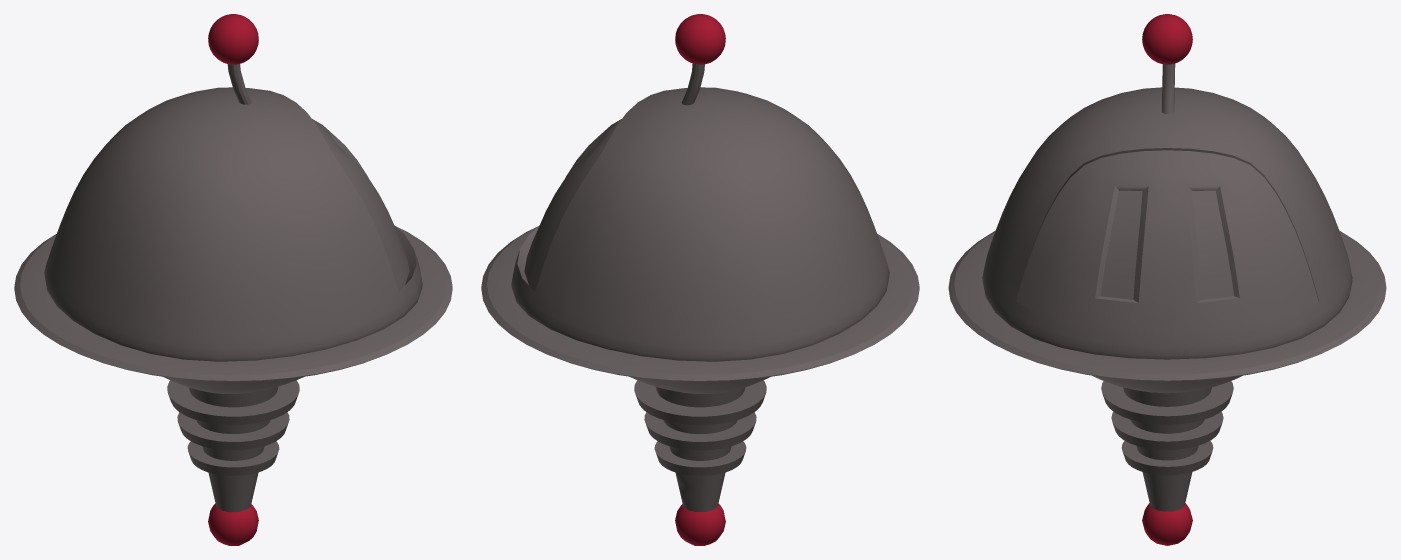
Rendered from SmallBot_Placeholder.fbx.
The picture shows the model from 3 angles, left to right: view 1: azimuth 30°, elevation 25°; view 2: azimuth 150°, elevation 25°; view 3: azimuth 270°, elevation 25°; orthographic projection.
Parts seen in each view (by area): view 1: SmallBot; view 2: SmallBot; view 3: SmallBot.
Part boxes in pixels (bbox=[...]): SmallBot: bbox=[14, 14, 452, 545]; SmallBot: bbox=[481, 14, 919, 545]; SmallBot: bbox=[948, 14, 1386, 545].
Size of the model in its own units: 210 by 279 by 210.
